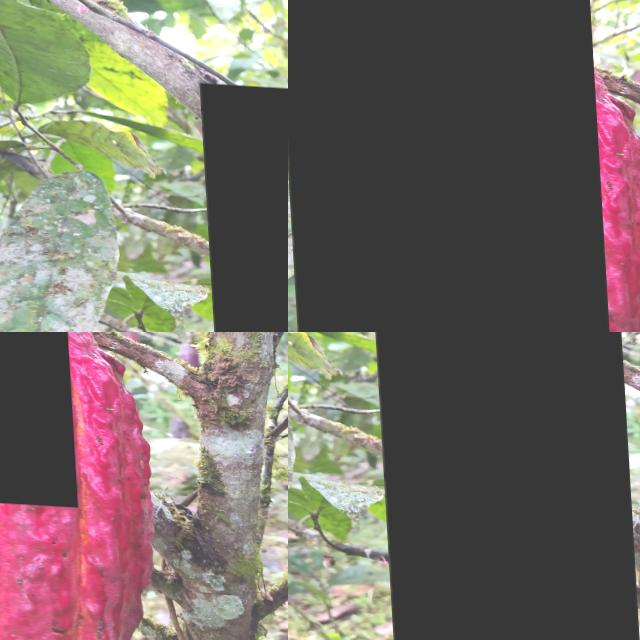Monilia: (288, 0, 606, 332)
Sana: (371, 332, 637, 640), (197, 80, 288, 332), (0, 332, 72, 502)
